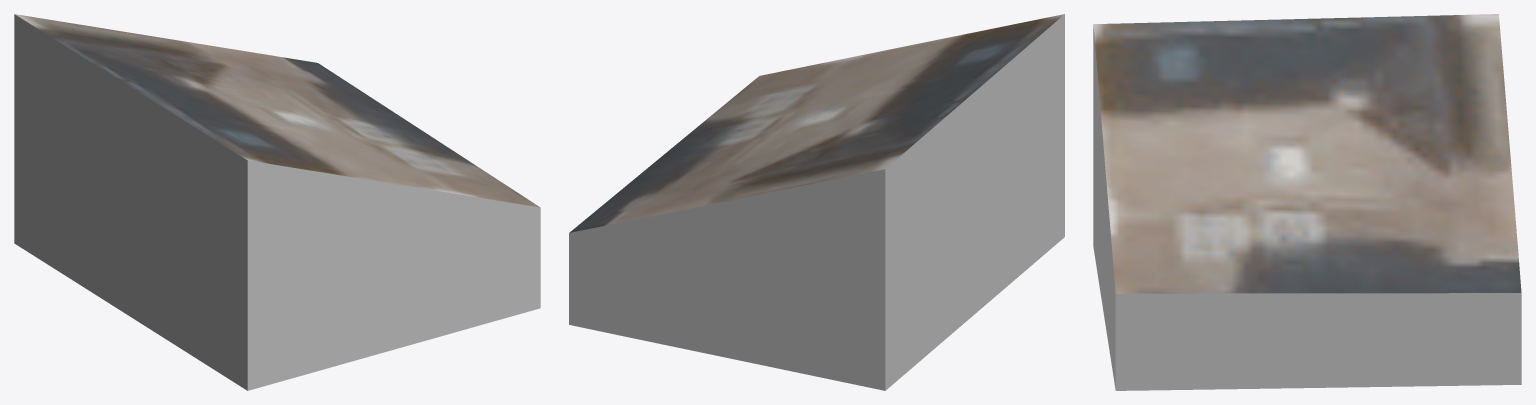
File: DEBW_0010007Txaf.gltf
3 views of the same model, side by side, from view 1: azimuth 30°, elevation 25°; view 2: azimuth 150°, elevation 25°; view 3: azimuth 270°, elevation 25° (orthographic). The views are drawn at different scales.
Visible parts, largest first — view 1: Z_UP; view 2: Z_UP; view 3: Z_UP.
Boxes of the visible parts, x1,y1,x2,y2 form: Z_UP: (14, 14, 540, 390); Z_UP: (569, 14, 1064, 390); Z_UP: (1093, 14, 1521, 390).
Size of the model in its own units: 9.89 by 6.64 by 11.54.
Materials: 2 (1 with a texture image).
